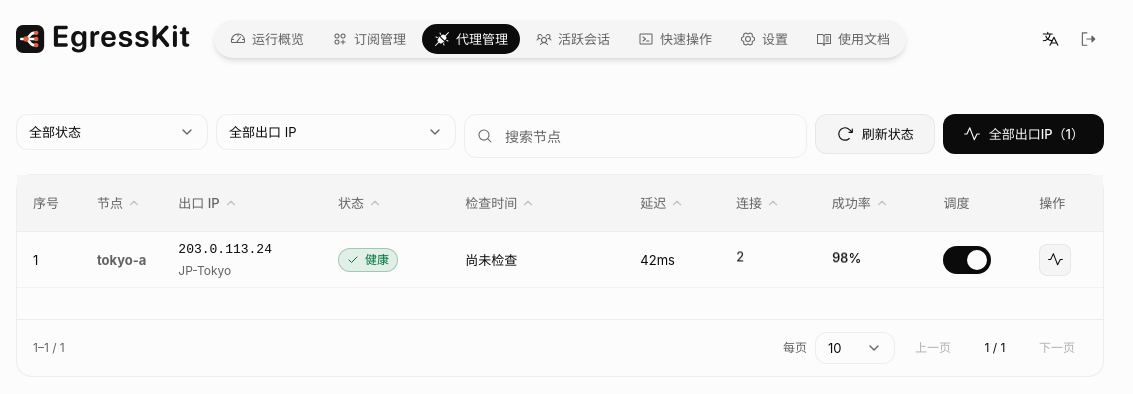
Test case: console router › reports a failed exit-IP operation through a toast and clears loading
The image size is (1133, 394).
Click the button "全部出口IP（1）": (1023, 134) [943,114,1104,154]
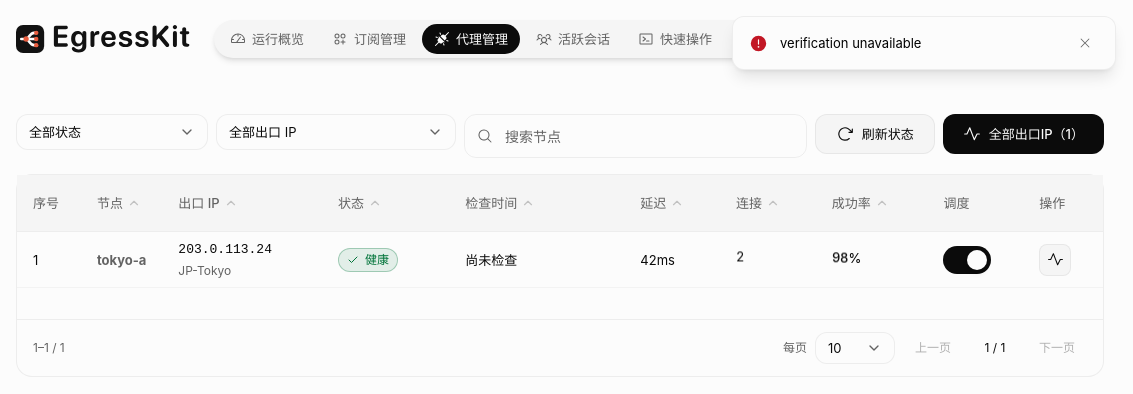
Expected: the text "verification unavailable" is shown, [780,35,922,51]
